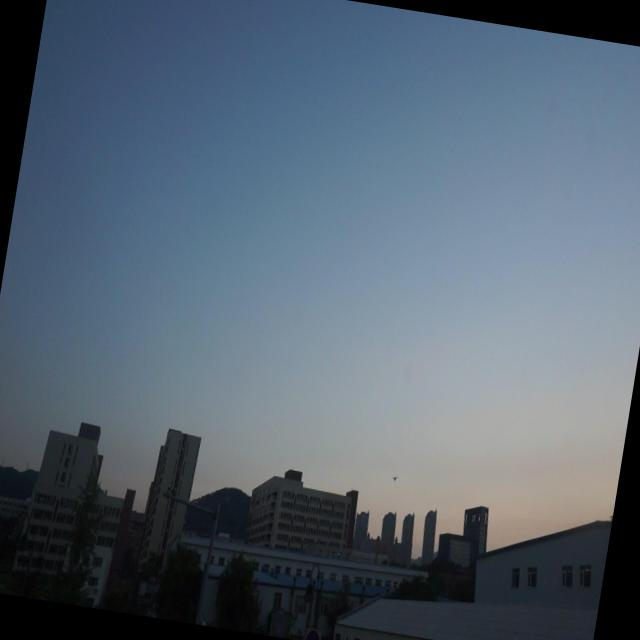drone: (390, 469, 401, 486)
